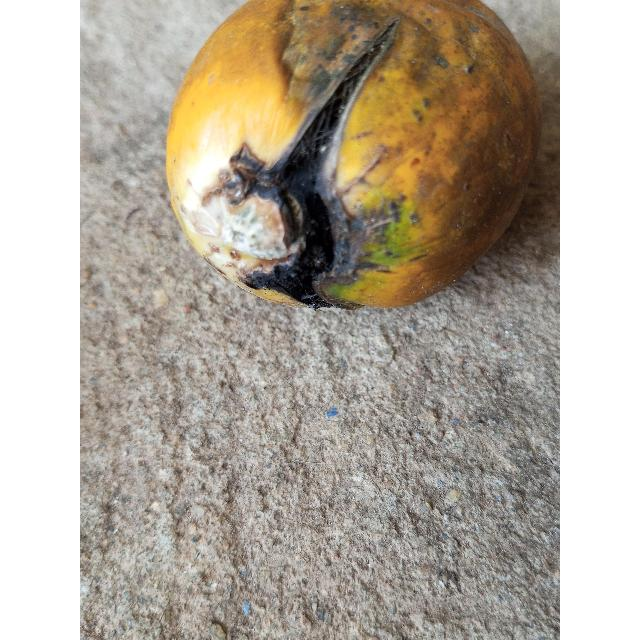damaged: (164, 0, 541, 312)
